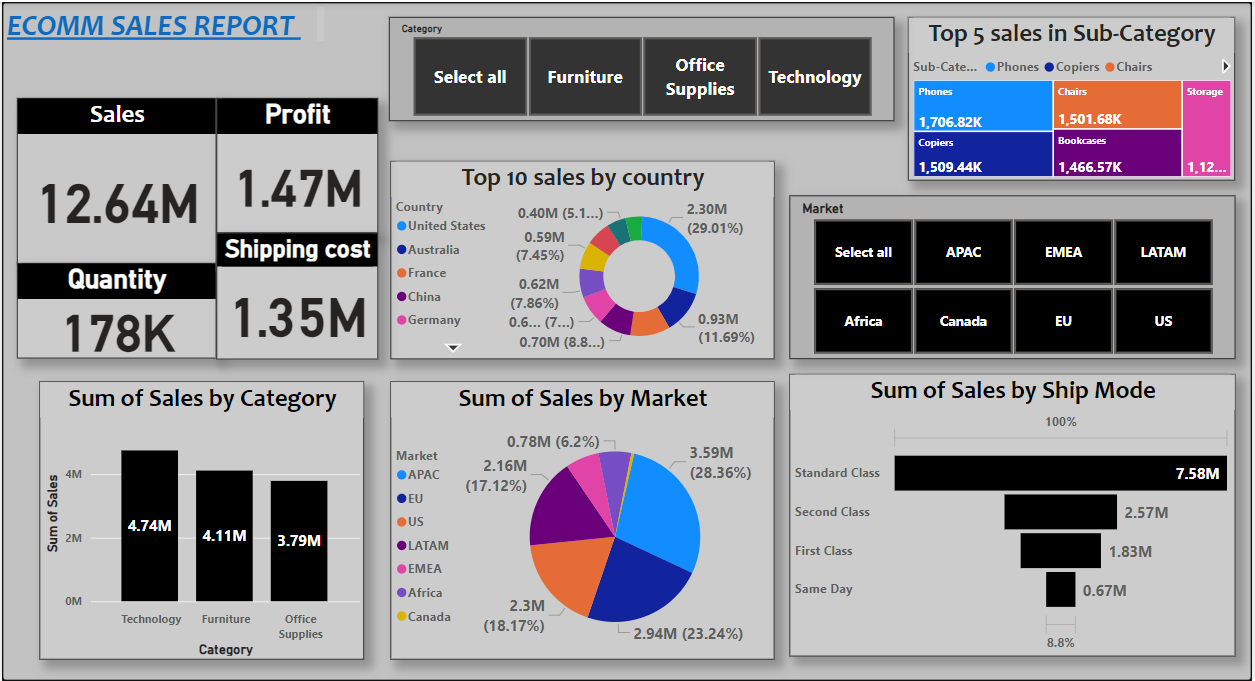

This screenshot's page, from the dashboard's own definition file:
{"tool":"powerbi","page":{"name":"Page 1","canvas":[1346,731],"ordinal":0},"visuals":[{"type":"columnChart","fields":{"Category":["Orders.Category"],"Y":["Sum(Orders.Sales)"]},"box":[16,400,384,304],"z":0},{"type":"pieChart","fields":{"Category":["Orders.Market"],"Y":["Sum(Orders.Sales)"]},"box":[416,400,416,304],"z":1000},{"type":"funnel","fields":{"Category":["Orders.Ship Mode"],"Y":["Sum(Orders.Sales)"]},"box":[848,400,480,304],"z":2000},{"type":"donutChart","title":"Top 10 sales by country","fields":{"Category":["Orders.Country"],"Y":["Sum(Orders.Sales)"]},"box":[416,144,416,240],"z":3000},{"type":"treemap","title":"Top 5 sales in Sub-Category","fields":{"Group":["Orders.Sub-Category"],"Values":["Sum(Orders.Sales)"]},"box":[848,176,480,208],"z":4000},{"type":"card","title":"Sales","fields":{"Values":["Sum(Orders.Sales)"]},"box":[16.6,102.9,214.8,178.5],"z":5000},{"type":"card","title":"Profit","fields":{"Values":["Sum(Orders.Profit)"]},"box":[231.5,102.9,174,145.2],"z":6000},{"type":"card","title":"Quantity","fields":{"Values":["Sum(Orders.Quantity)"]},"box":[16.6,281.4,214.8,102.9],"z":7000},{"type":"slicer","fields":{"Values":["Orders.Category"]},"box":[416,16,544,112],"z":8000},{"type":"card","title":"Shipping cost","fields":{"Values":["Sum(Orders.Shipping Cost)"]},"box":[231.5,248.1,174,136.2],"z":9000},{"type":"slicer","fields":{"Values":["Orders.Market"]},"box":[976,16,352,144],"z":10000},{"type":"textbox","box":[16,0,368,48],"z":11000},{"type":"textbox","box":[16,48,384,48],"z":12000}]}

Visuals, with their boxes in screenshot pixels (x1, y1, x2, y2), scaled from the page's 1346x731 canvas onto the 1255x681 screenshot:
columnChart - Orders.Category x Sum(Orders.Sales): x1=15, y1=373, x2=373, y2=656
pieChart - Orders.Market x Sum(Orders.Sales): x1=388, y1=373, x2=776, y2=656
funnel - Orders.Ship Mode x Sum(Orders.Sales): x1=791, y1=373, x2=1238, y2=656
"Top 10 sales by country" donutChart: x1=388, y1=134, x2=776, y2=358
"Top 5 sales in Sub-Category" treemap: x1=791, y1=164, x2=1238, y2=358
"Sales" card: x1=15, y1=96, x2=216, y2=262
"Profit" card: x1=216, y1=96, x2=378, y2=231
"Quantity" card: x1=15, y1=262, x2=216, y2=358
slicer - Orders.Category: x1=388, y1=15, x2=895, y2=119
"Shipping cost" card: x1=216, y1=231, x2=378, y2=358
slicer - Orders.Market: x1=910, y1=15, x2=1238, y2=149
textbox: x1=15, y1=0, x2=358, y2=45
textbox: x1=15, y1=45, x2=373, y2=89
